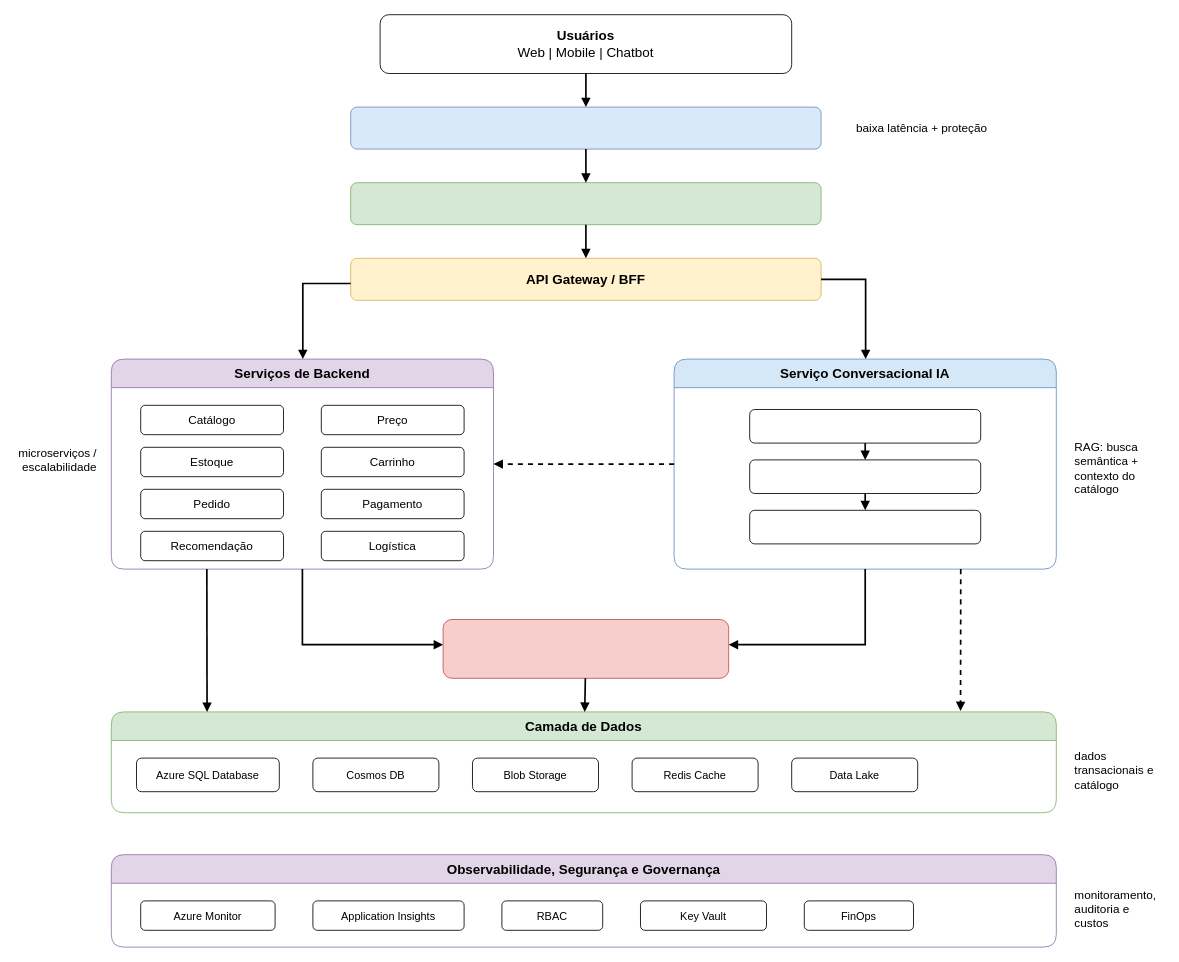
This 1179x962 diagram has some shape labels left out. Here are the shapes that lost their labels. From the top down, the centre of each, then its label:
At point (585, 127): "Azure Front Door + CDN + WAF".
At point (585, 203): "Frontend / Mobile App".
At point (865, 426): "Orquestrador do Chat".
At point (865, 476): "Azure OpenAI Service".
At point (865, 526): "Azure AI Search / Vector DB".
At point (585, 648): "Mensageria / Eventos Service Bus / Event Grid".
